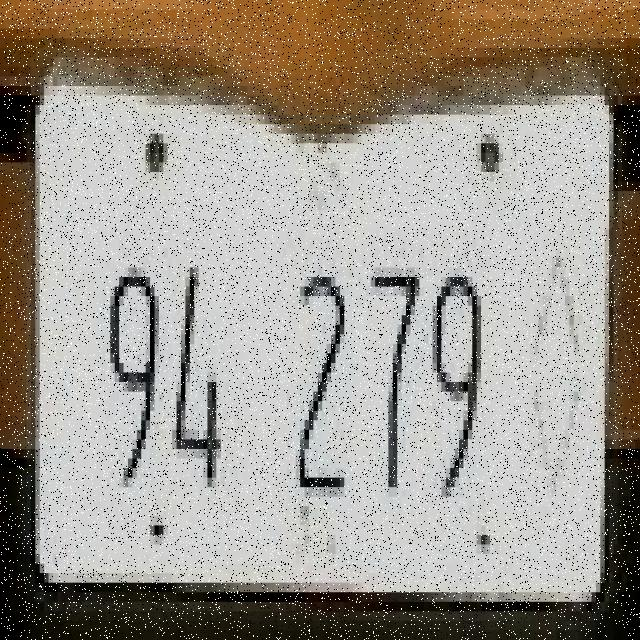licenseplate: (38, 86, 614, 600)
